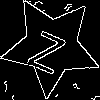Z: (26, 21, 71, 76)
